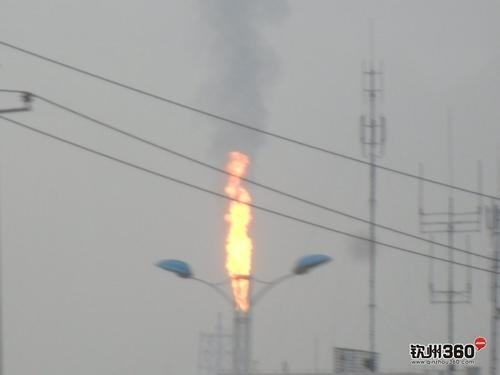fire: (222, 149, 255, 312)
